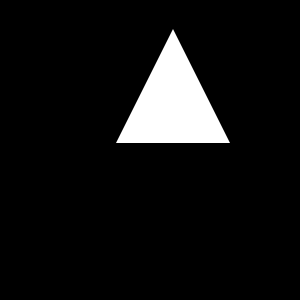triangle: (116, 29, 230, 143)
